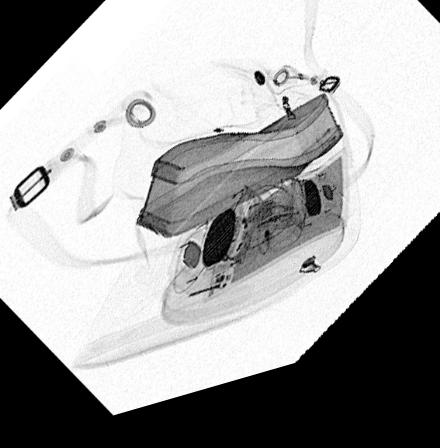Powerbank: (203, 166, 347, 316)
